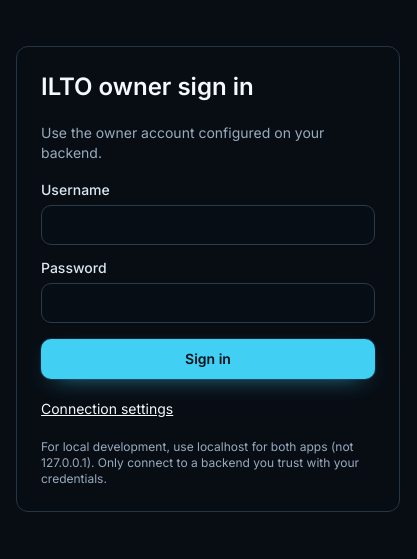
Scenario: owner session UI (mocked fetch, not real cookies) › shows actionable login failure for network without retrying
The width and height of the screenshot is (417, 559).
Expected: the button "Sign in" is enabled, [41,339,375,379]
In the field labelled "Username": (208, 225) [41,205,375,245], type "owner"
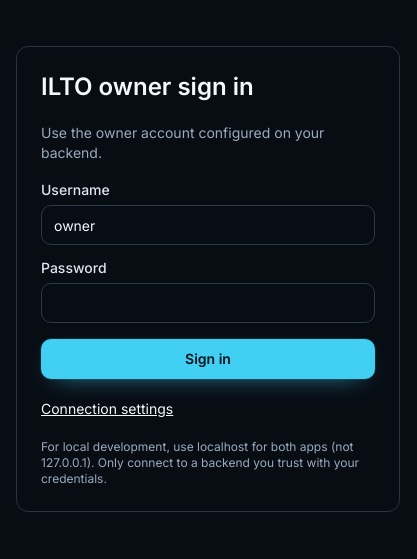
In the password field labelled "Password": (208, 303) [41,283,375,323], type "password"
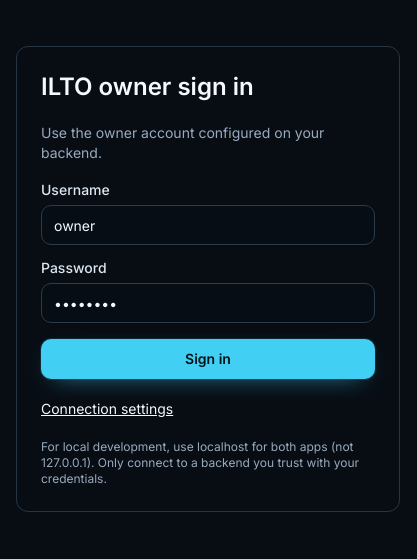
Click the button "Sign in": (208, 359) [41,339,375,379]
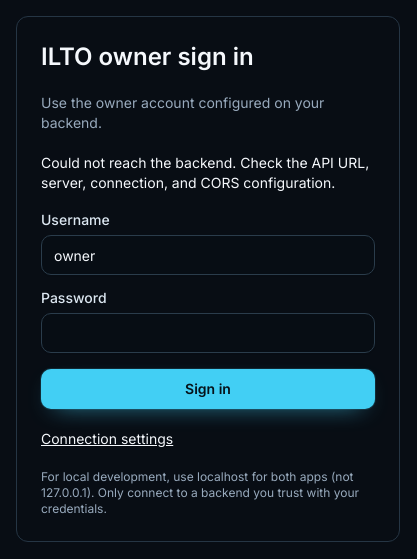
Now the message shows "CORS", box [41,154,369,191]
Now the password field labelled "Password" is empty, box [41,313,375,353]
